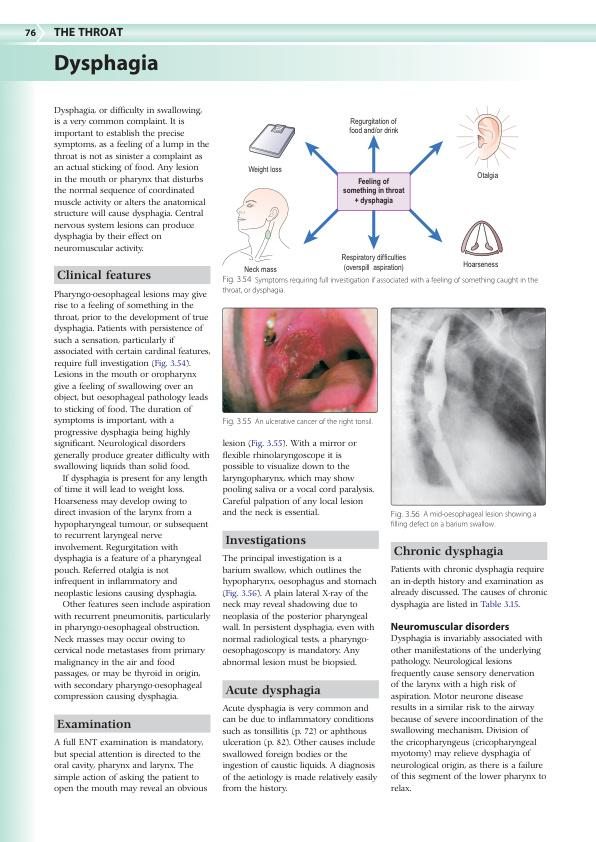caption: (221, 275, 539, 295), (390, 509, 539, 530), (222, 416, 374, 427)
chapter-heading: (54, 52, 160, 76)
header: (52, 26, 125, 38)
image: (220, 100, 528, 274), (389, 306, 547, 507), (221, 306, 378, 413)
section-heading: (393, 545, 505, 559), (224, 684, 322, 698), (56, 268, 152, 280), (225, 535, 308, 548), (56, 718, 132, 729)
sub-section-heading: (390, 621, 510, 632)
text: (53, 289, 212, 704), (390, 633, 547, 793), (52, 104, 211, 255), (221, 553, 377, 669), (221, 703, 378, 795), (221, 437, 375, 517), (53, 737, 209, 796), (390, 564, 549, 611)
